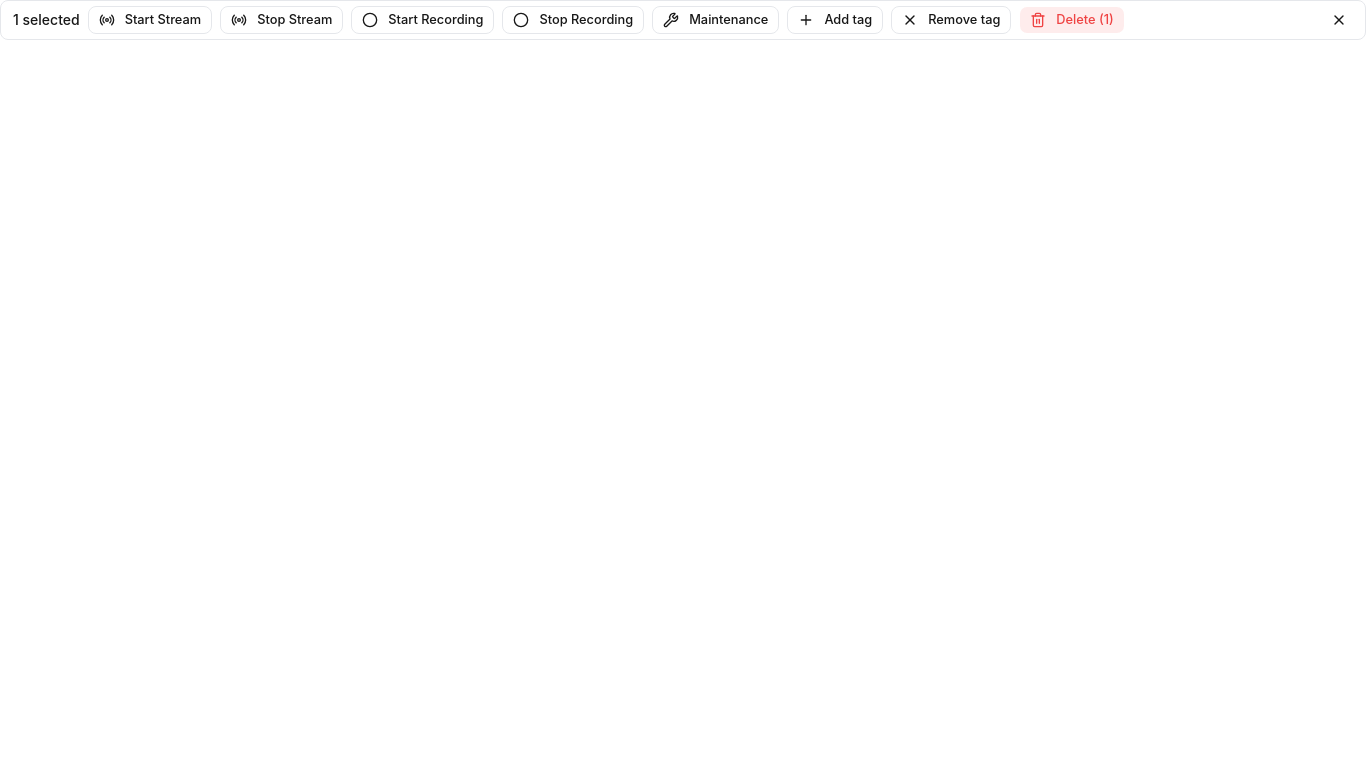
Phase 22: tag bulk actions › Test 6: no AlertDialog is mounted by the toolbar before/after Add or Remove (D-13)
// Click Add tag trigger — no alertdialog (only the Popover content opens)
Click the button "Add tag".
click(835, 20)  # box [787,6,883,34]
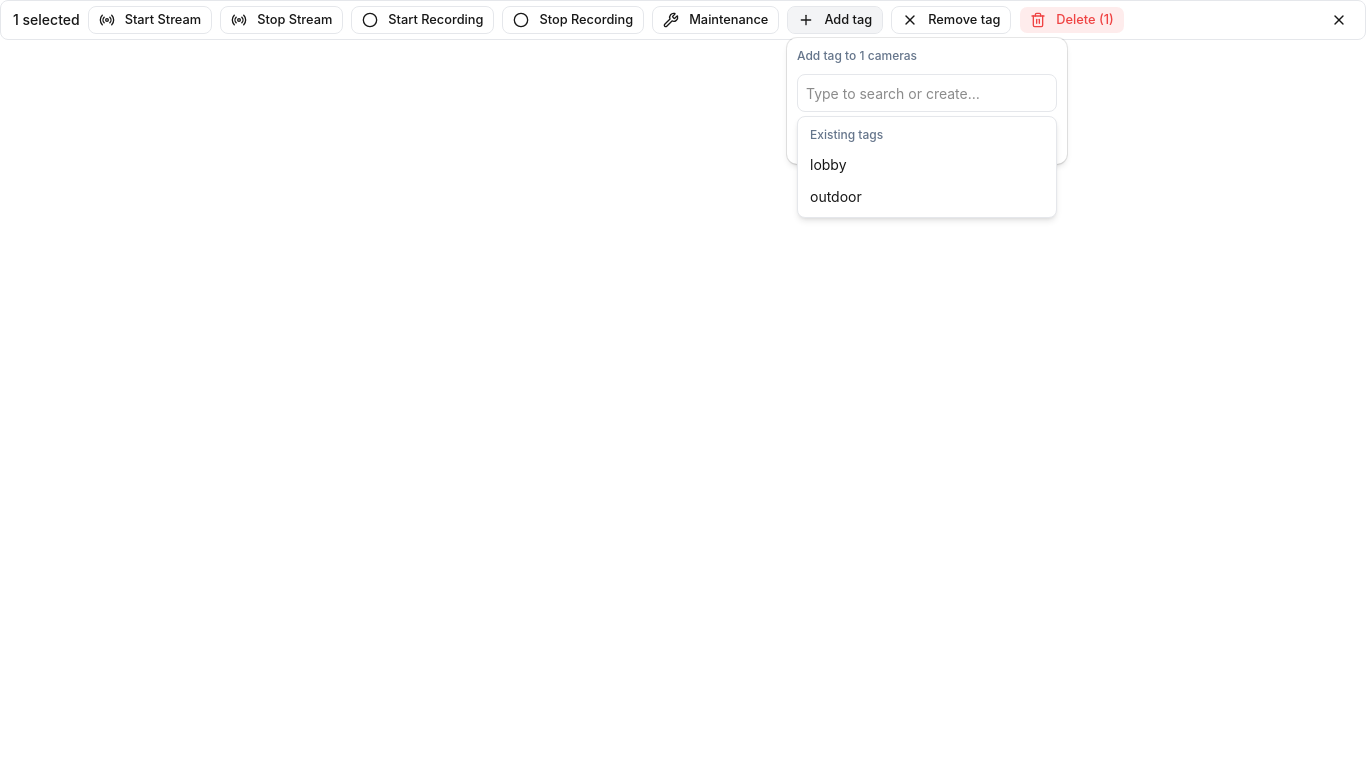
Now the element named "add tag" is shown, box [797,74,1057,112]
